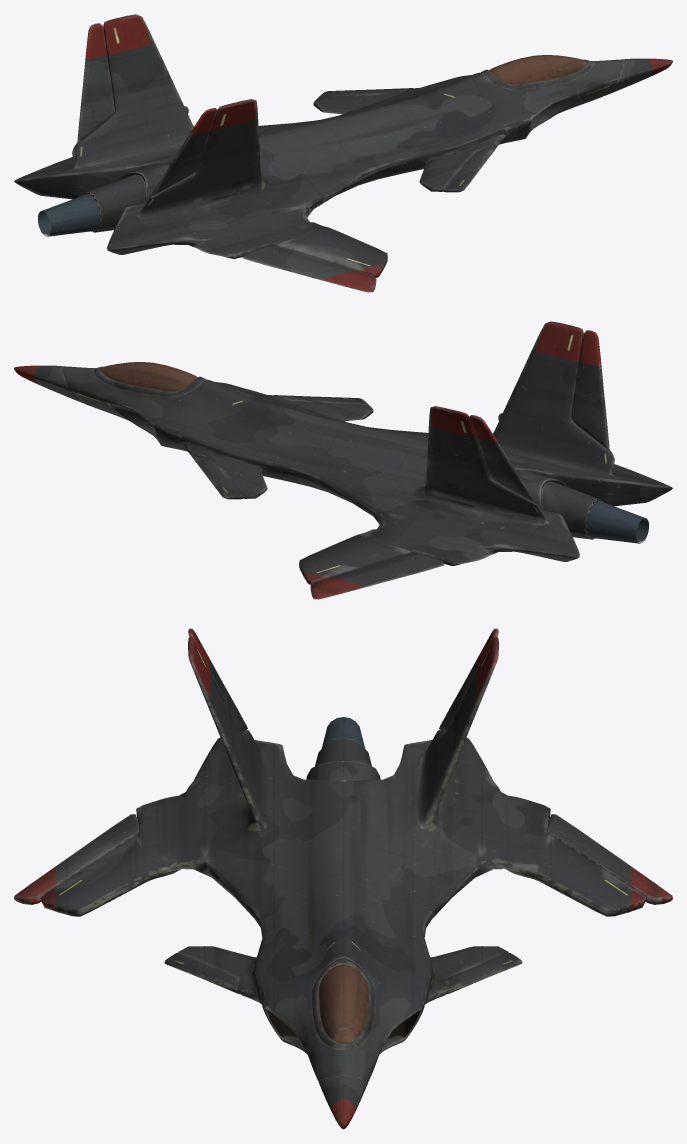
Rendered from fh_battle_e_rival.glb.
3 views of the same model, one above another, from view 1: azimuth 30°, elevation 25°; view 2: azimuth 150°, elevation 25°; view 3: azimuth 270°, elevation 25° (orthographic). The views are drawn at different scales.
Visible parts, largest first — view 1: rival; view 2: rival; view 3: rival.
Boxes of the visible parts, left/top/right/bottom form: rival: left=14, top=14, right=672, bottom=292; rival: left=14, top=321, right=672, bottom=599; rival: left=14, top=628, right=672, bottom=1129.
Bounding box in the file's own units: 1 × 0.2418 × 0.6873.
Materials: 1 (1 with a texture image).
